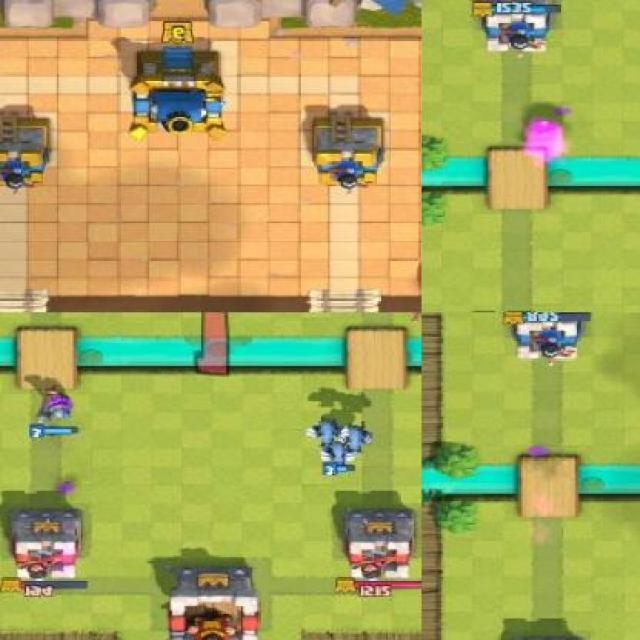Player-Minion: (315, 440, 362, 478), (304, 414, 351, 451), (336, 418, 378, 456)
Player-Musketeer: (26, 383, 82, 440)
